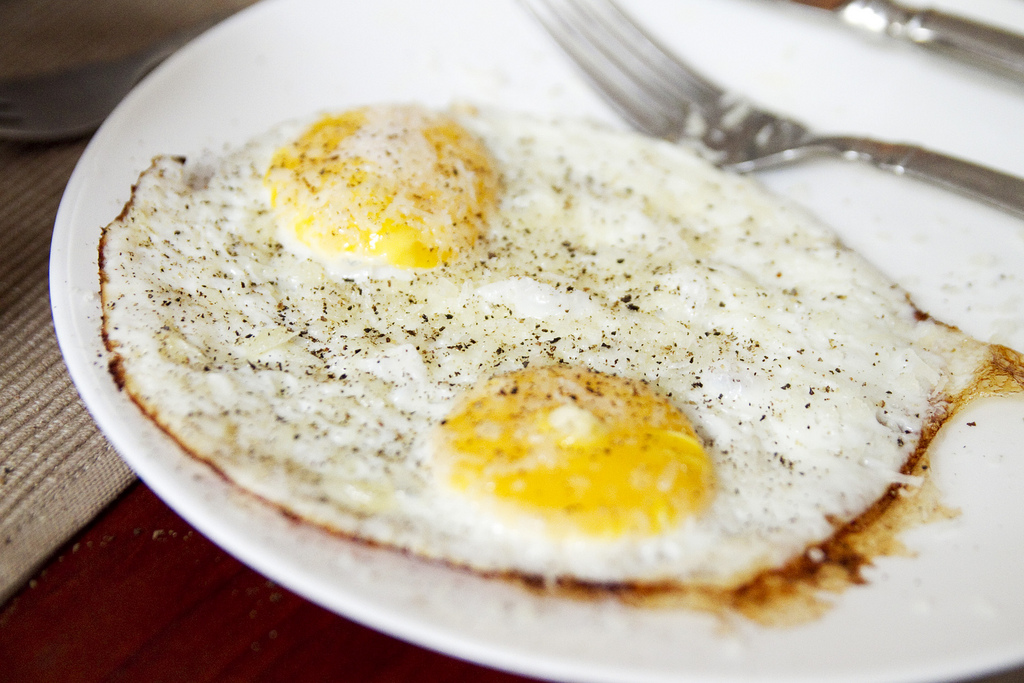fried egg: (120, 284, 1022, 623), (108, 92, 804, 312)
